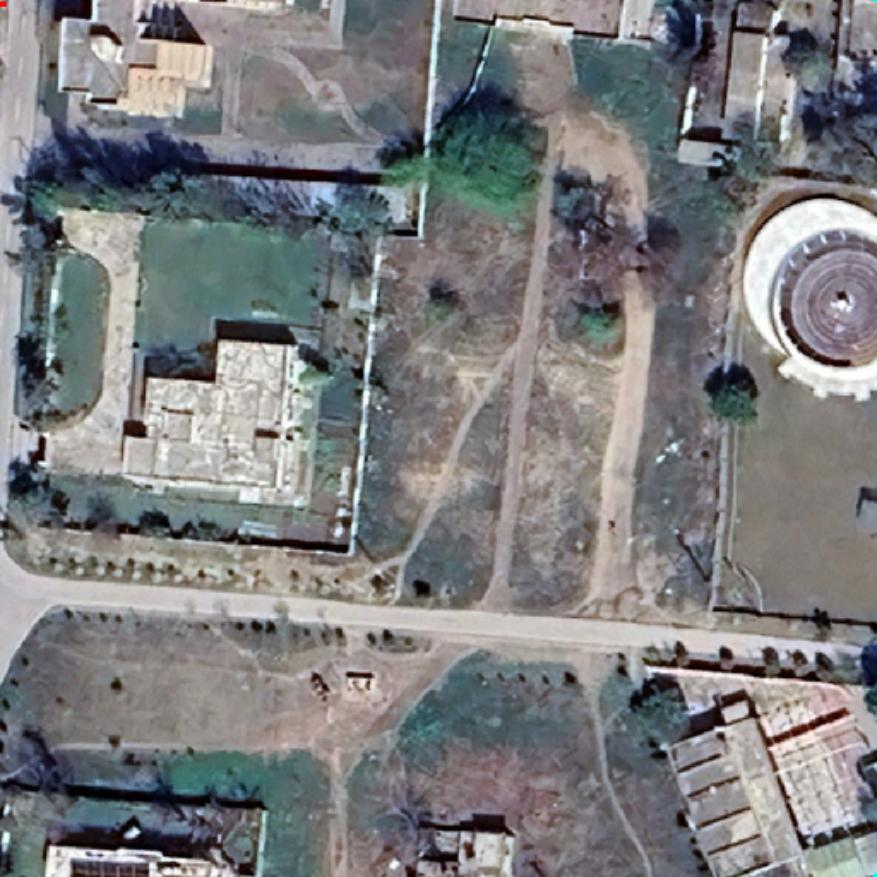Solarpanel: (65, 857, 152, 877)
